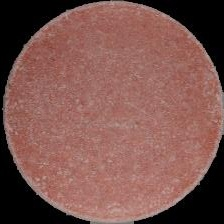0143-1268: (0, 0, 224, 224)
